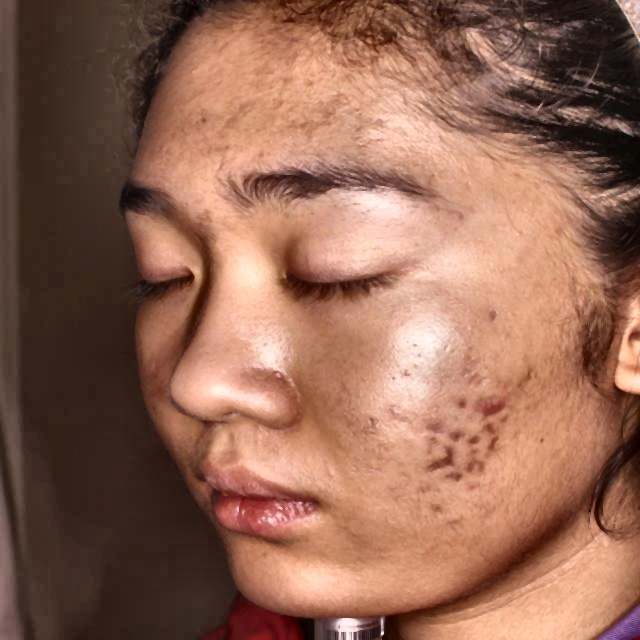pustule: (484, 387, 521, 422), (443, 396, 476, 418), (467, 442, 489, 472), (441, 421, 470, 442), (421, 448, 456, 463), (489, 428, 509, 448), (445, 468, 468, 483)
